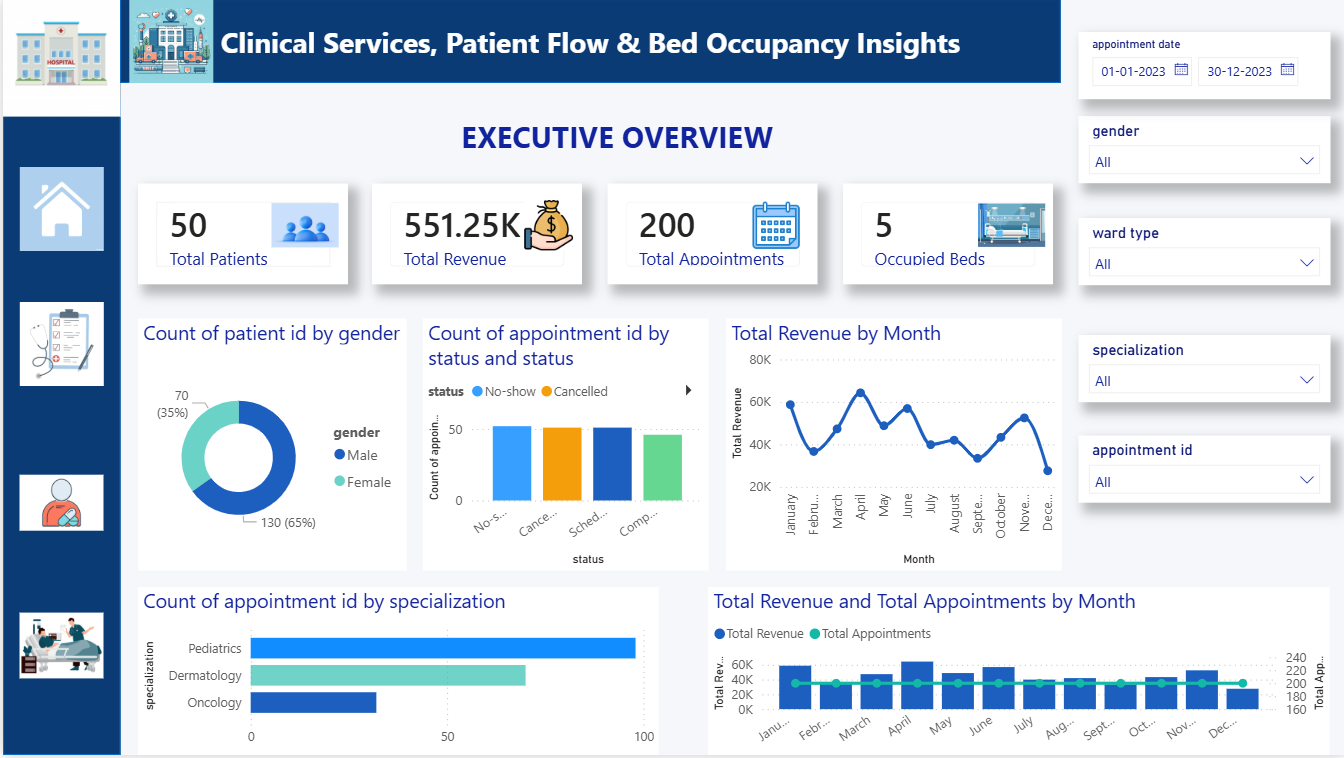

This screenshot's page, from the dashboard's own definition file:
{"tool":"powerbi","page":{"name":"EXECUTIVE OVERVIEW","canvas":[1280,720],"ordinal":0},"visuals":[{"type":"cardVisual","fields":{"Data":["cleaned_patients.Total Patients"]},"box":[128,176,200,96],"z":0},{"type":"cardVisual","fields":{"Data":["cleaned_billing.Total Revenue"]},"box":[352,176,200,96],"z":1000},{"type":"cardVisual","fields":{"Data":["cleaned_appointments.Total Appointments"]},"box":[576,176,200,96],"z":2000},{"type":"shape","box":[0,0,112,720],"z":3000},{"type":"slicer","fields":{"Values":["cleaned_patients.gender"]},"box":[1024,112,240,64],"z":4000},{"type":"cardVisual","fields":{"Data":["cleaned_bed_occupancy.Occupied Beds"]},"box":[800,176,200,96],"z":5000},{"type":"donutChart","fields":{"Y":["CountNonNull(cleaned_appointments.patient id)"],"Category":["cleaned_patients.gender"]},"box":[128,304,256,240],"z":6000},{"type":"columnChart","fields":{"Category":["cleaned_appointments.status"],"Series":["cleaned_appointments.status"],"Y":["CountNonNull(cleaned_appointments.appointment id)"]},"box":[400,304,272,240],"z":7000},{"type":"lineChart","fields":{"Category":["cleaned_billing.bill date.Variation.Date Hierarchy.Month"],"Y":["cleaned_billing.Total Revenue"]},"box":[688,304,320,240],"z":8000},{"type":"barChart","fields":{"Category":["cleaned_doctors.specialization"],"Y":["CountNonNull(cleaned_appointments.appointment id)"]},"box":[128,560,496,160],"z":9000},{"type":"lineClusteredColumnComboChart","fields":{"Category":["cleaned_billing.bill date.Variation.Date Hierarchy.Month"],"Y":["cleaned_billing.Total Revenue"],"Y2":["cleaned_appointments.Total Appointments"]},"box":[672,560,592,160],"z":10000},{"type":"slicer","fields":{"Values":["cleaned_bed_occupancy.ward type"]},"box":[1024,208,240,64],"z":11000},{"type":"slicer","fields":{"Values":["cleaned_doctors.specialization"]},"box":[1024,320,240,64],"z":12000},{"type":"slicer","fields":{"Values":["cleaned_appointments.appointment id"]},"box":[1024,416,240,64],"z":13000},{"type":"slicer","fields":{"Values":["cleaned_appointments.appointment date"]},"box":[1024,32,240,64],"z":14000},{"type":"actionButton","box":[0,0,112,96],"z":15000},{"type":"textbox","title":"EXECUTIVE OVERVIEW","box":[432,112,464,32],"z":19000},{"type":"image","box":[256,192,64,48],"z":19002},{"type":"image","box":[0,160,112,80],"z":19004},{"type":"image","box":[16,416,80,128],"z":19005},{"type":"image","box":[0,0,112,112],"z":19006},{"type":"image","box":[0,288,112,80],"z":19007},{"type":"image","box":[16,576,80,80],"z":19008},{"type":"image","box":[704,192,64,48],"z":19010},{"type":"image","box":[496,192,48,48],"z":19011},{"type":"image","box":[928,192,64,48],"z":19012},{"type":"shape","box":[112,0,896,80],"z":19013},{"type":"image","box":[64,0,192,80],"z":19014}]}

Visuals, with their boxes in screenshot pixels (x1, y1, x2, y2), scaled from the page's 1280x720 canvas onto the 1344x758 screenshot:
cardVisual - cleaned_patients.Total Patients: (134, 185, 344, 286)
cardVisual - cleaned_billing.Total Revenue: (370, 185, 580, 286)
cardVisual - cleaned_appointments.Total Appointments: (605, 185, 815, 286)
shape: (0, 0, 118, 757)
slicer - cleaned_patients.gender: (1075, 118, 1327, 185)
cardVisual - cleaned_bed_occupancy.Occupied Beds: (840, 185, 1050, 286)
donutChart - CountNonNull(cleaned_appointments.patient id) x cleaned_patients.gender: (134, 320, 403, 573)
columnChart - cleaned_appointments.status x cleaned_appointments.status: (420, 320, 706, 573)
lineChart - cleaned_billing.bill date.Variation.Date Hierarchy.Month x cleaned_billing.Total Revenue: (722, 320, 1058, 573)
barChart - cleaned_doctors.specialization x CountNonNull(cleaned_appointments.appointment id): (134, 590, 655, 757)
lineClusteredColumnComboChart - cleaned_billing.bill date.Variation.Date Hierarchy.Month x cleaned_billing.Total Revenue: (706, 590, 1327, 757)
slicer - cleaned_bed_occupancy.ward type: (1075, 219, 1327, 286)
slicer - cleaned_doctors.specialization: (1075, 337, 1327, 404)
slicer - cleaned_appointments.appointment id: (1075, 438, 1327, 505)
slicer - cleaned_appointments.appointment date: (1075, 34, 1327, 101)
actionButton: (0, 0, 118, 101)
"EXECUTIVE OVERVIEW" textbox: (454, 118, 941, 152)
image: (269, 202, 336, 253)
image: (0, 168, 118, 253)
image: (17, 438, 101, 573)
image: (0, 0, 118, 118)
image: (0, 303, 118, 387)
image: (17, 606, 101, 691)
image: (739, 202, 806, 253)
image: (521, 202, 571, 253)
image: (974, 202, 1042, 253)
shape: (118, 0, 1058, 84)
image: (67, 0, 269, 84)
